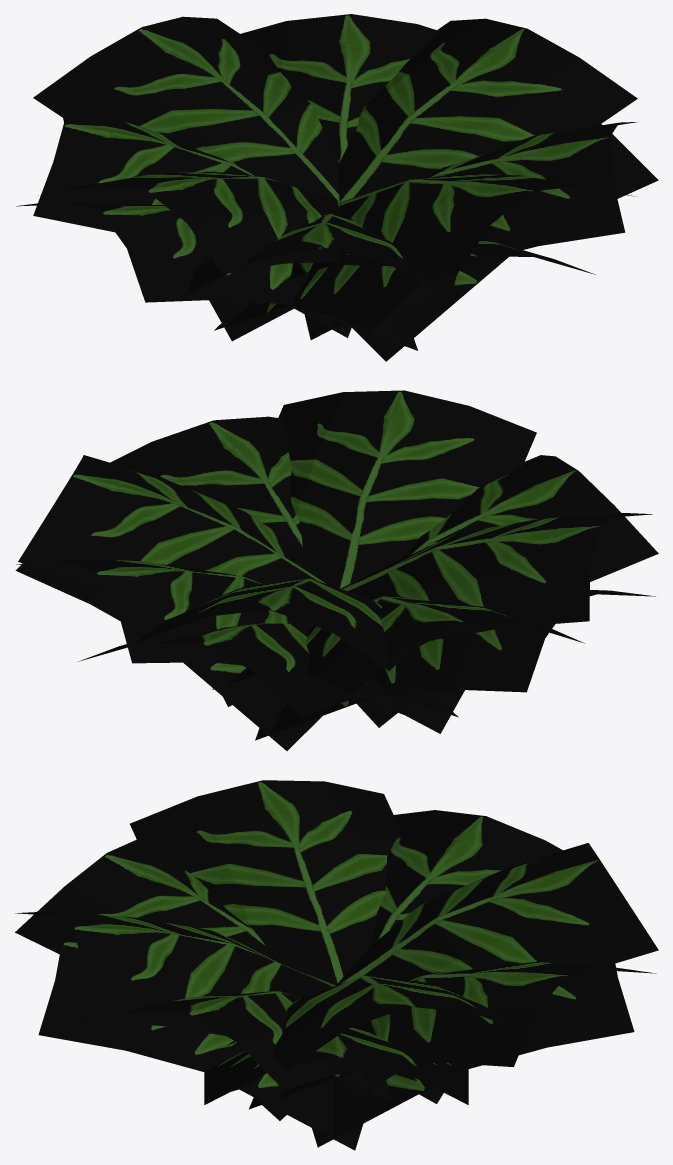
Rendered from Bush_7.fbx.
The picture shows the model from 3 angles, top to bottom: view 1: azimuth 30°, elevation 25°; view 2: azimuth 150°, elevation 25°; view 3: azimuth 270°, elevation 25°; orthographic projection.
Visible parts, largest first — view 1: Bush.005; view 2: Bush.005; view 3: Bush.005.
Boxes of the visible parts, left/top/right/bottom form: Bush.005: left=16, top=14, right=658, bottom=361; Bush.005: left=15, top=390, right=658, bottom=750; Bush.005: left=15, top=780, right=658, bottom=1150.
Bounding box in the file's own units: 1252 × 435 × 1252.
